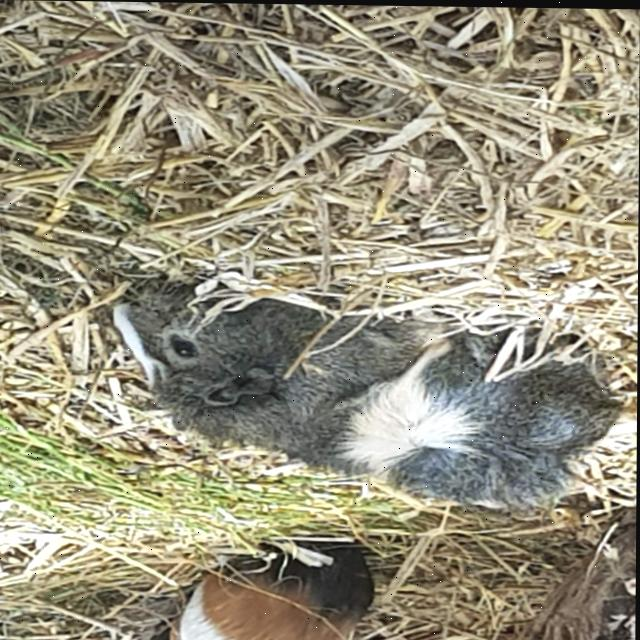guinea pig: (111, 276, 623, 511), (119, 528, 380, 640)
